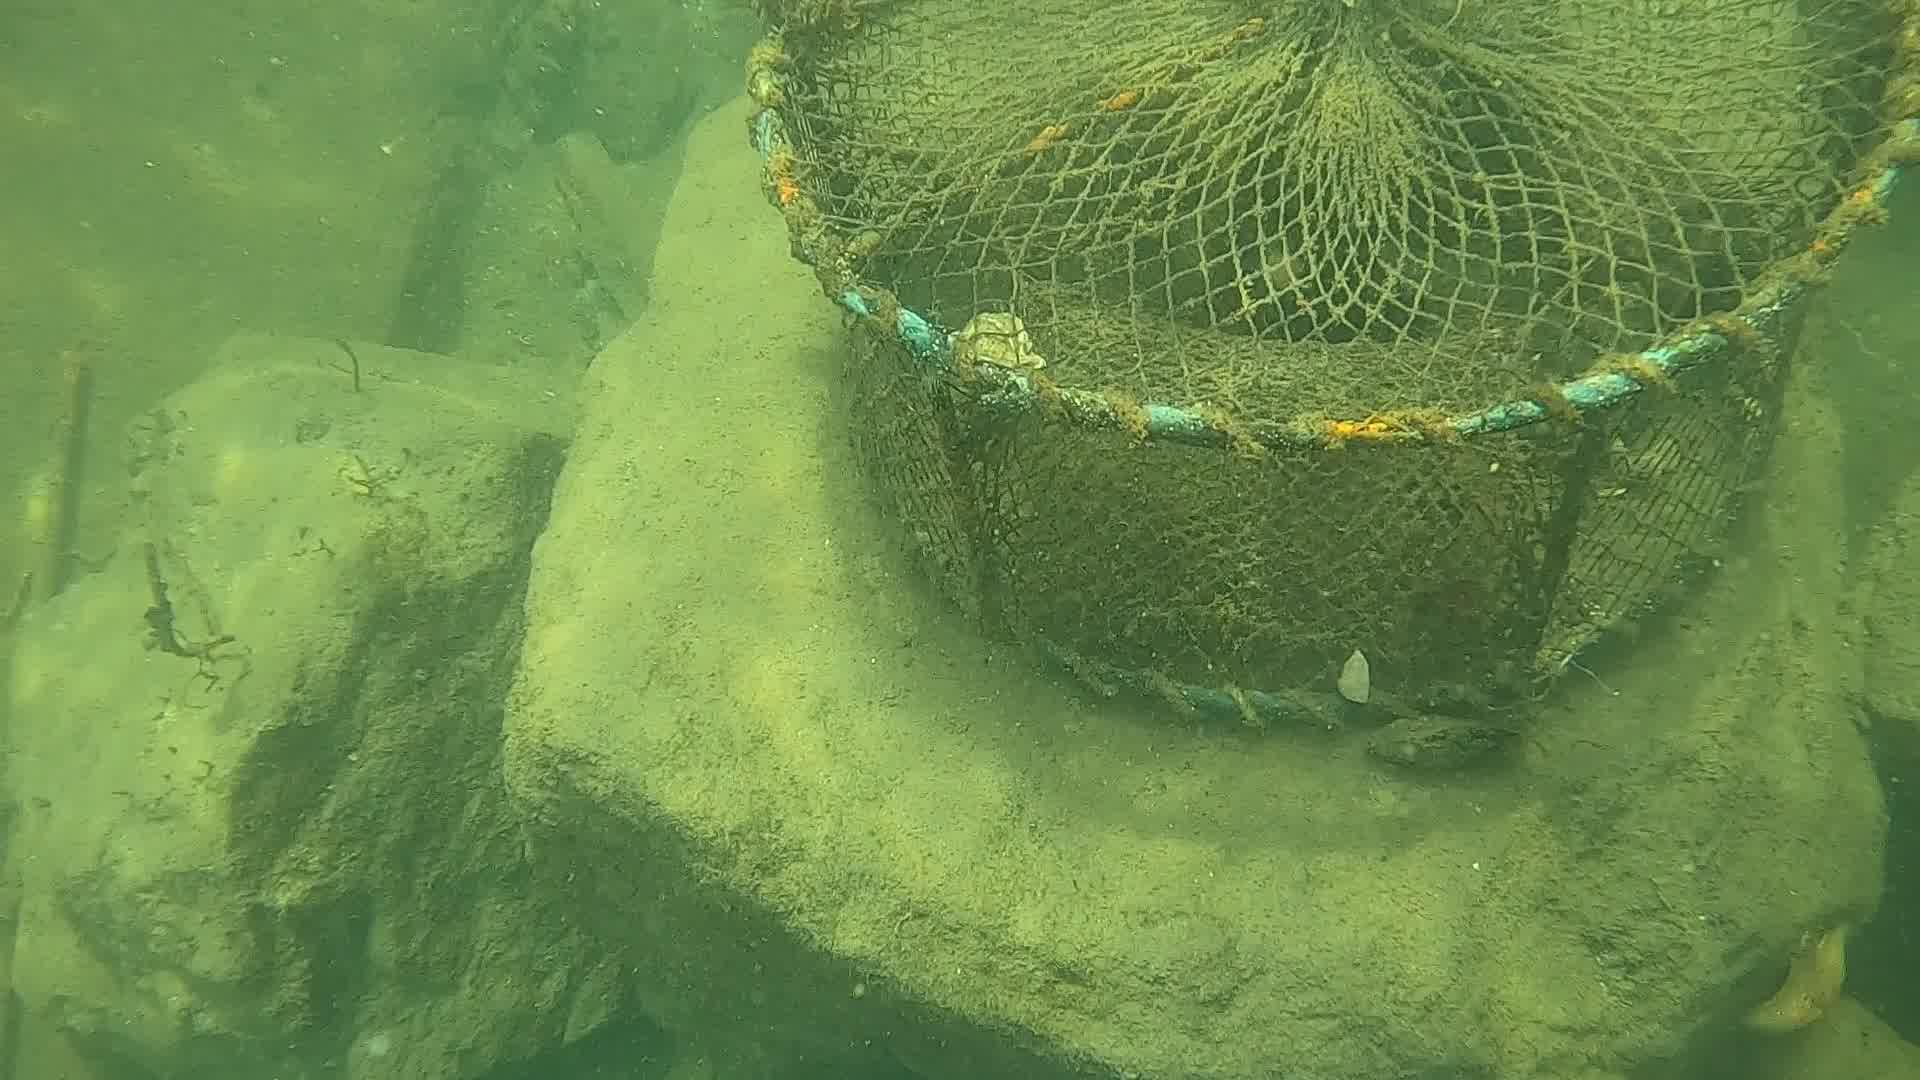circular fish trap: (749, 0, 1920, 725)
